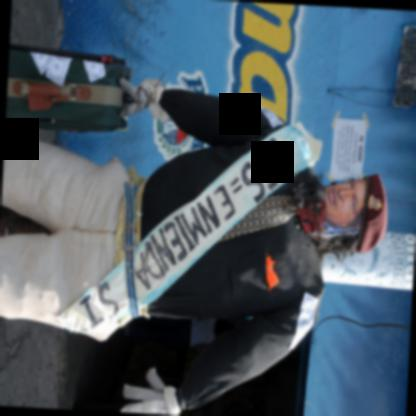suitcase: (4, 43, 139, 128)
